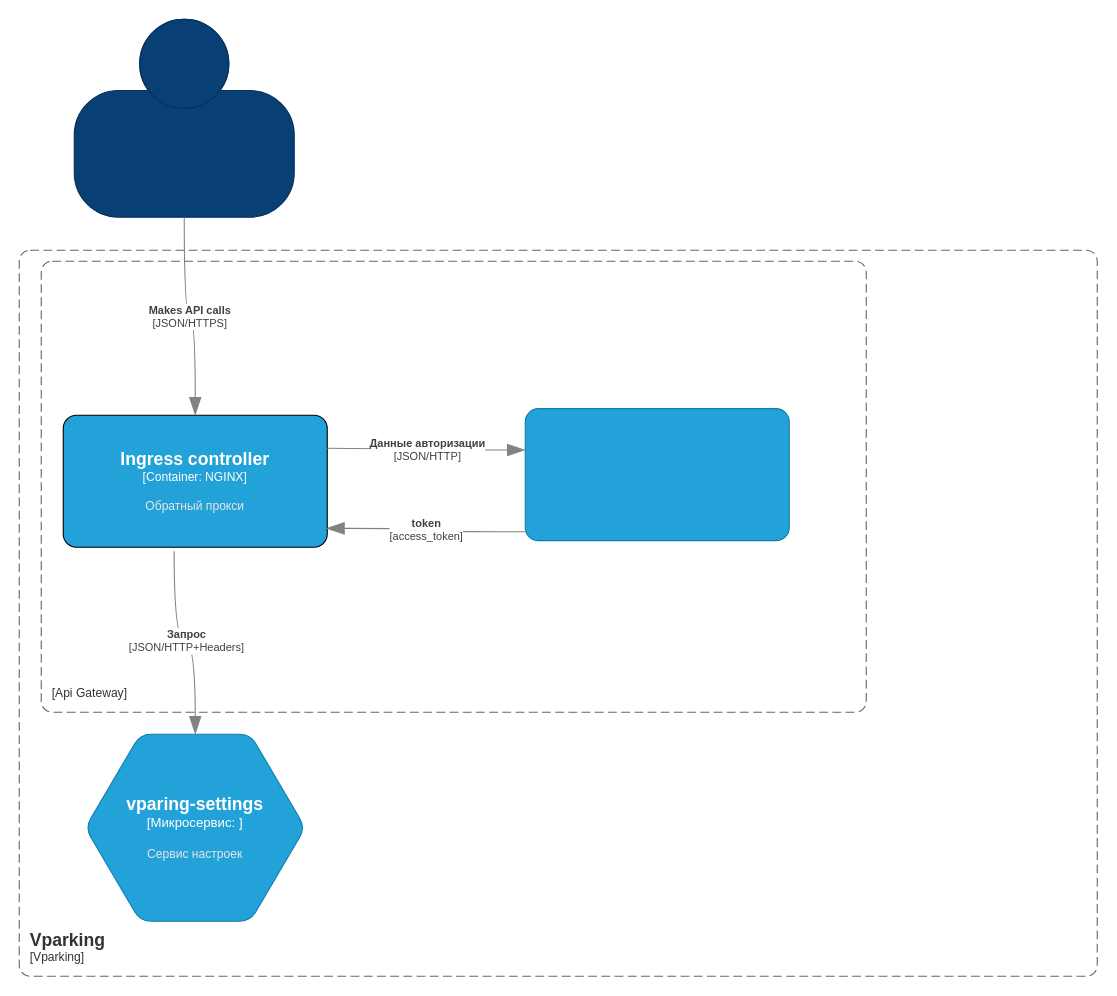
The diagram is 1117 pixels wide and 996 high, and some of its shapes have lost their labels. The shapes that lost their labels are listed below. From the top down, each one's centre as x and y in pixels, then its label:
pixel 183 117: [Person] Клиент
pixel 656 474: Keycloak [Container: Keycloak] Авторизация и аутентификация
